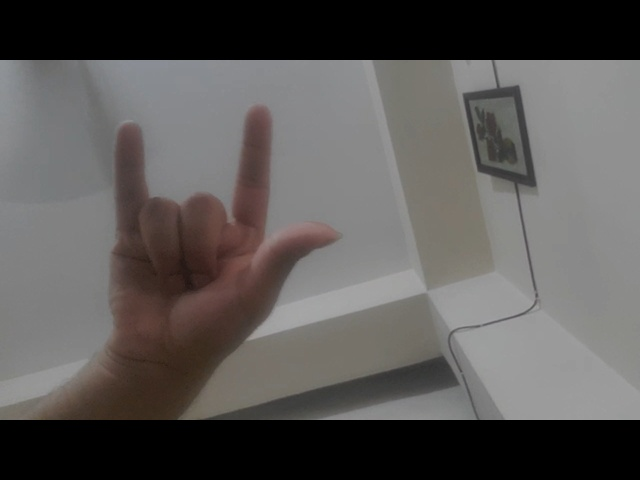I love you: (52, 100, 358, 388)
